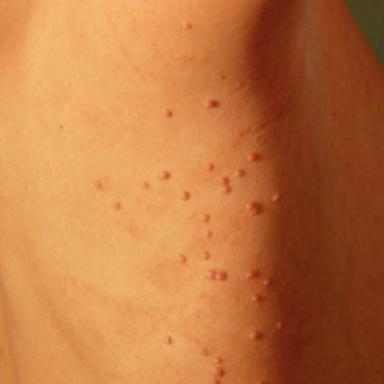Molluscum-Contagiosum: (246, 202, 263, 215), (207, 270, 227, 280), (214, 366, 225, 383), (221, 177, 231, 194), (247, 152, 262, 162), (246, 269, 260, 279), (249, 330, 263, 340), (157, 171, 170, 180), (251, 294, 263, 302), (181, 191, 190, 201), (234, 169, 245, 177), (207, 100, 219, 107), (112, 201, 121, 210), (178, 254, 187, 263), (272, 193, 281, 202), (164, 336, 173, 345), (199, 347, 209, 355), (263, 278, 271, 287), (141, 181, 149, 189), (201, 251, 209, 259), (214, 357, 223, 364), (95, 180, 102, 188), (203, 214, 210, 222), (166, 109, 173, 117), (205, 230, 212, 237), (276, 322, 282, 330), (209, 164, 214, 171)
